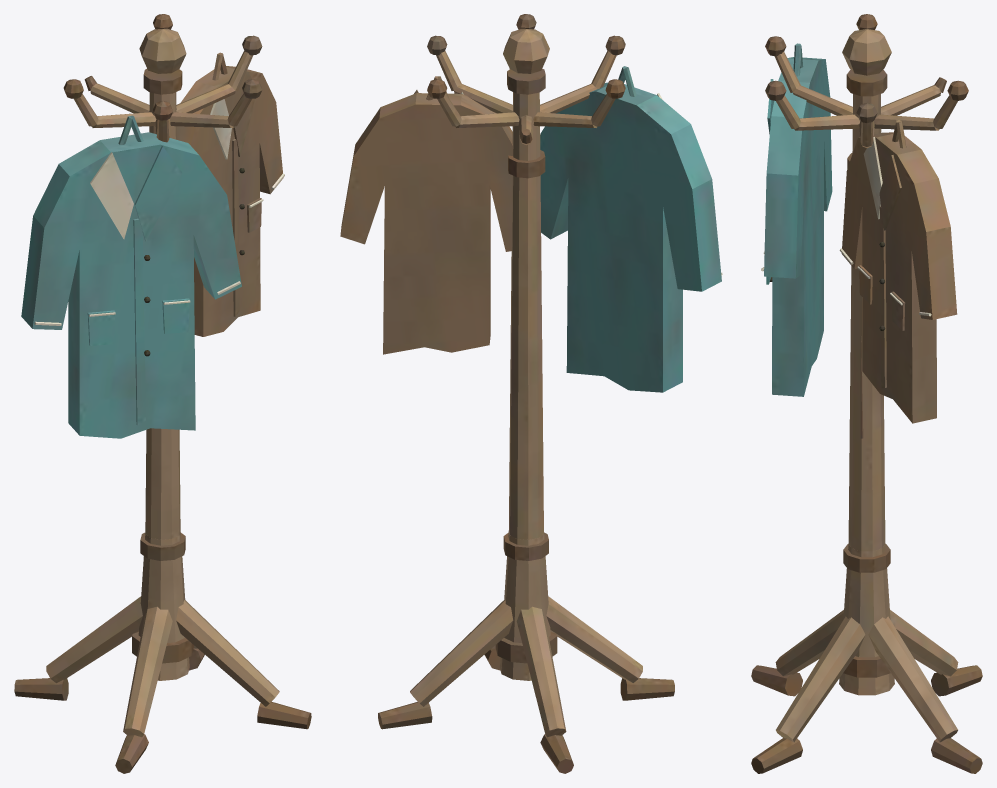
The model's file is L22_coat_stand.glb.
The picture shows the model from 3 angles, left to right: view 1: azimuth 30°, elevation 25°; view 2: azimuth 150°, elevation 25°; view 3: azimuth 270°, elevation 25°; orthographic projection. The views are drawn at different scales.
Parts seen in each view (by area): view 1: Lower turned column; view 2: Lower turned column; view 3: Lower turned column.
Part boxes in pixels (left/top/right/bottom): Lower turned column: left=14, top=14, right=311, bottom=773; Lower turned column: left=340, top=14, right=722, bottom=773; Lower turned column: left=751, top=14, right=982, bottom=773.
Size of the model in its own units: 0.8704 by 1.8 by 0.541.
Materials: 7 (7 with a texture image).
